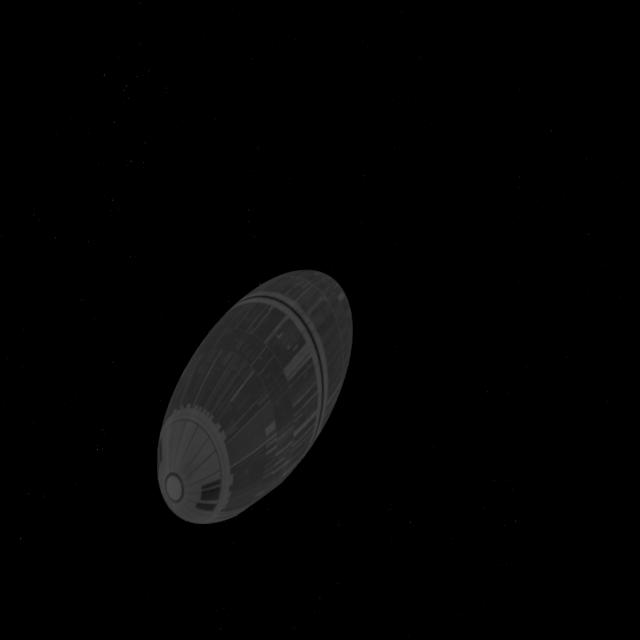death-stars: (162, 267, 359, 525)
